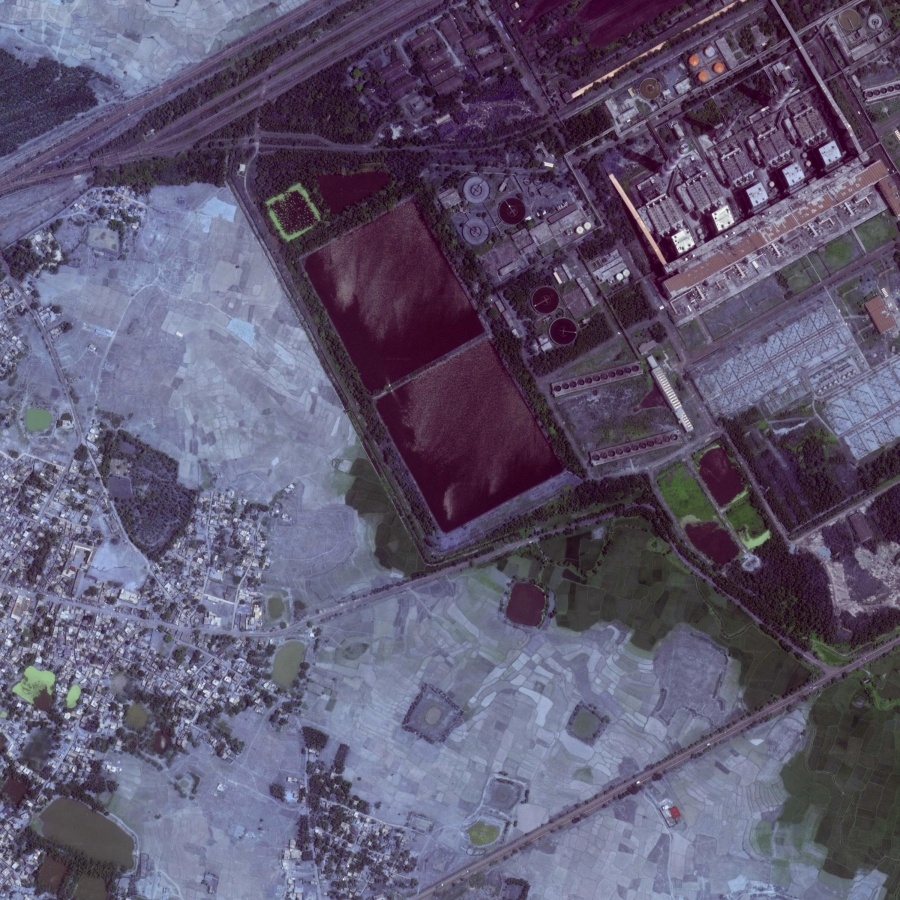PowerPlant: (275, 174, 638, 578)
